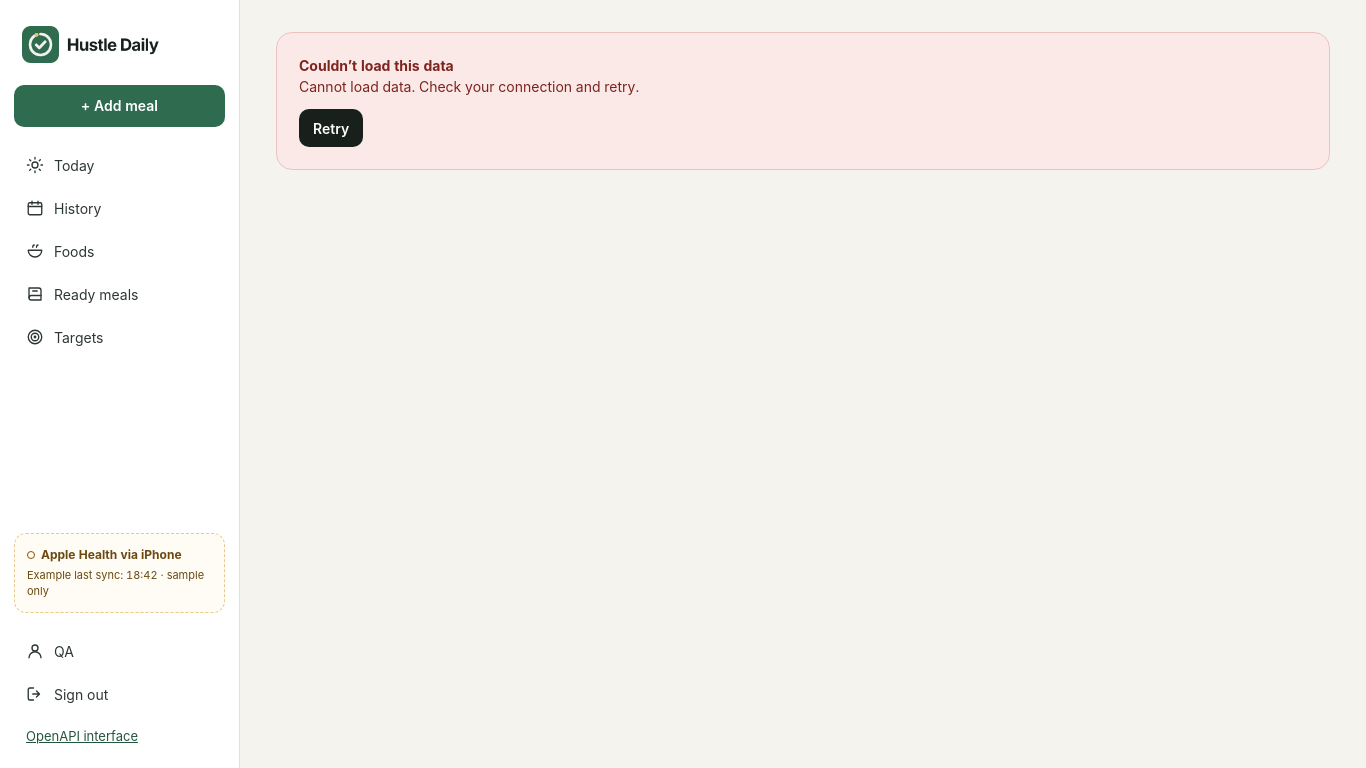
Scenario: shows Retry when meal categories fail to load and opens the form after retry
Expected: the message shows "Cannot load data", [299,78,639,95]
Click the button "Retry": {"x": 331, "y": 128} [299,109,363,147]
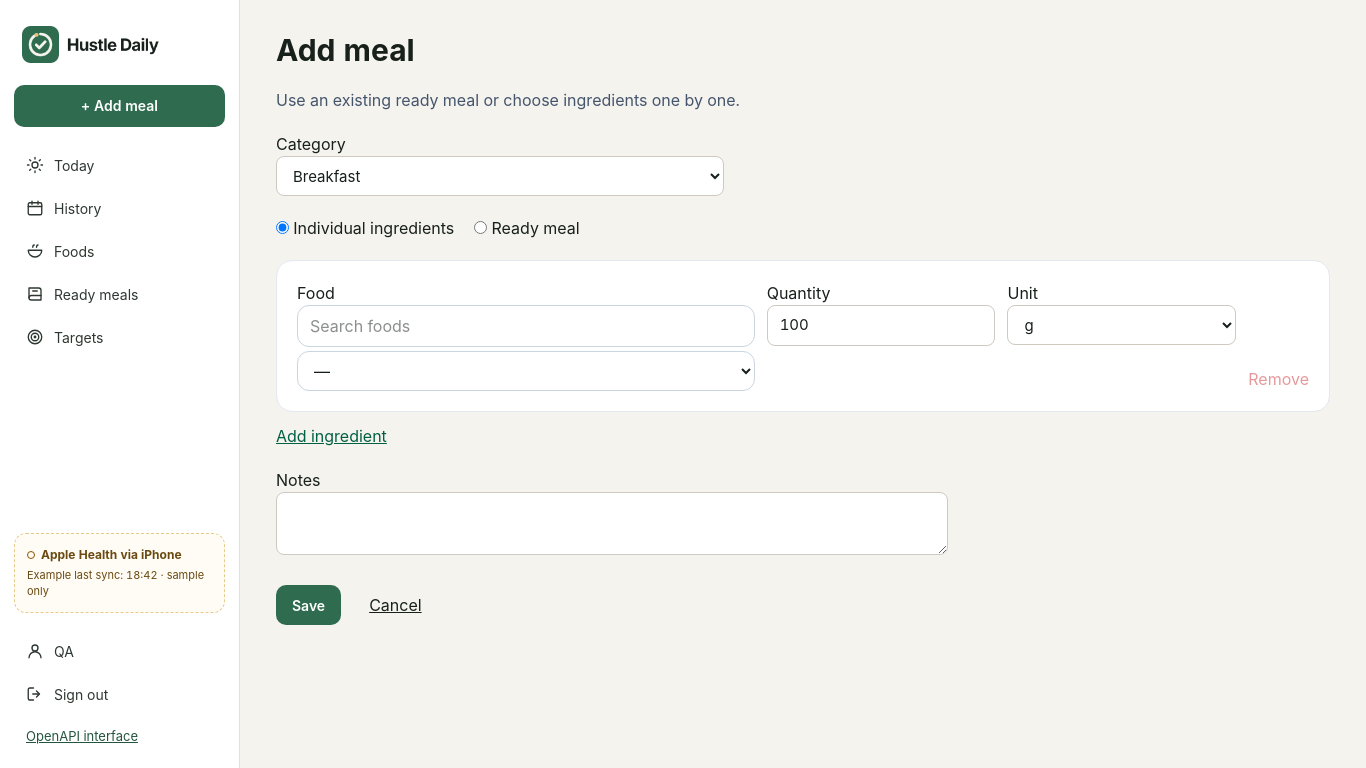
Now the heading "Add meal" is shown, box [276,32,415,68]
